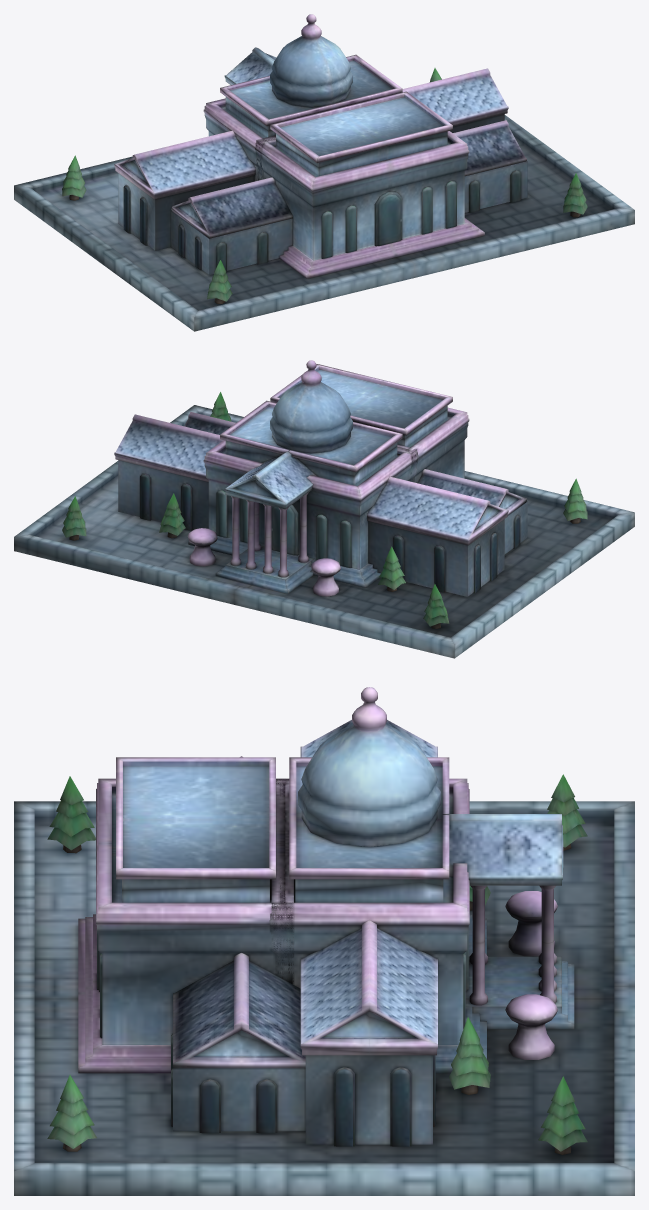
Rendered from Palace.glb.
3 renders of one model, top to bottom at view 1: azimuth 30°, elevation 25°; view 2: azimuth 150°, elevation 25°; view 3: azimuth 270°, elevation 25°, orthographic. The views are drawn at different scales.
Parts seen in each view (by area): view 1: Cube.024; view 2: Cube.024; view 3: Cube.024.
Part boxes in pixels (x1,y1,x2,y2): Cube.024: (14,14,634,331); Cube.024: (14,360,634,658); Cube.024: (14,687,634,1195).
Size of the model in its own units: 27.29 by 11.13 by 19.36.
1 material, 1 textured.
